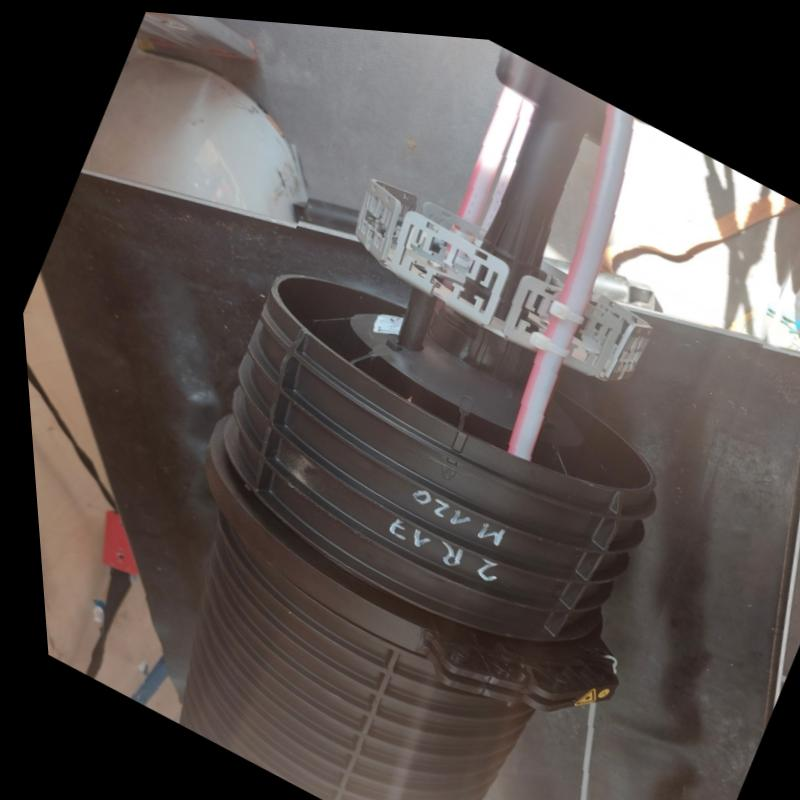NT-Muffen: (164, 40, 665, 800)
